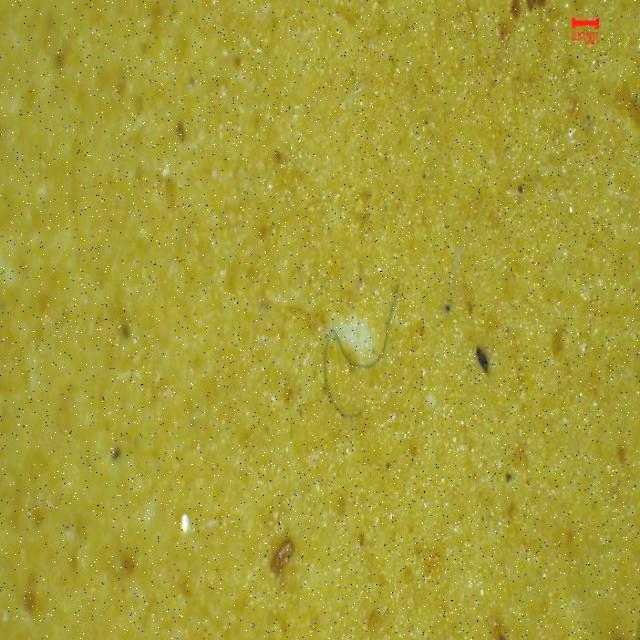Fibre: (314, 279, 412, 426)
